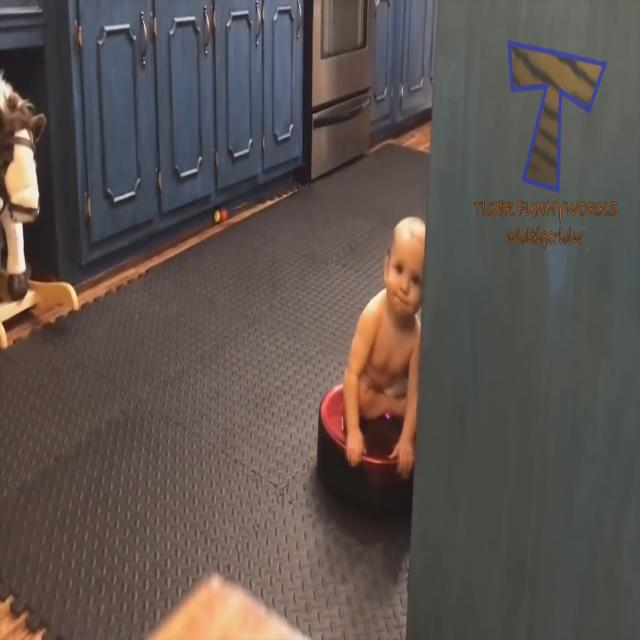safe: (362, 223, 423, 453)
